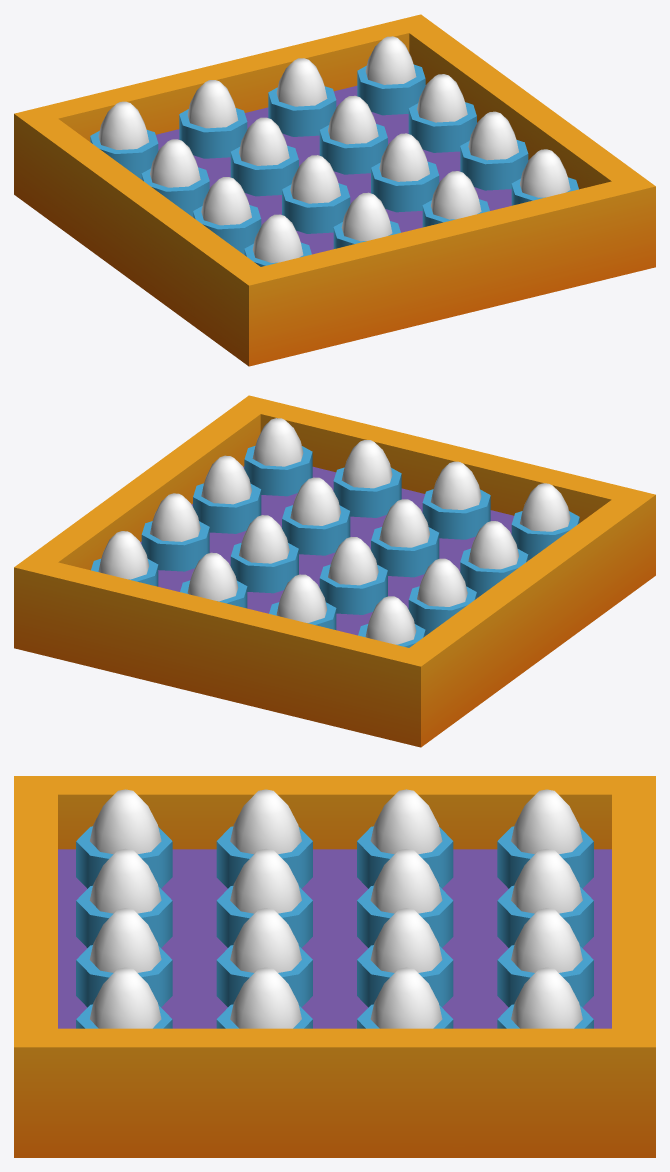
File: Ground_Spike_01.fbx
3 renders of one model, top to bottom at view 1: azimuth 30°, elevation 25°; view 2: azimuth 150°, elevation 25°; view 3: azimuth 270°, elevation 25°, orthographic. The views are drawn at different scales.
Parts seen in each view (by area): view 1: Obstacle_Ground_Spike_01, Obstacle_Ground_Spike_01_Spike; view 2: Obstacle_Ground_Spike_01, Obstacle_Ground_Spike_01_Spike; view 3: Obstacle_Ground_Spike_01, Obstacle_Ground_Spike_01_Spike.
Part boxes in pixels (x1,y1,x2,y2): Obstacle_Ground_Spike_01: (14,14,655,366); Obstacle_Ground_Spike_01_Spike: (98,36,570,262); Obstacle_Ground_Spike_01: (14,395,655,747); Obstacle_Ground_Spike_01_Spike: (98,418,570,644); Obstacle_Ground_Spike_01: (14,776,655,1157); Obstacle_Ground_Spike_01_Spike: (89,789,582,1028).
Size of the model in its own units: 112 by 26.81 by 112.
1 material, 1 textured.
